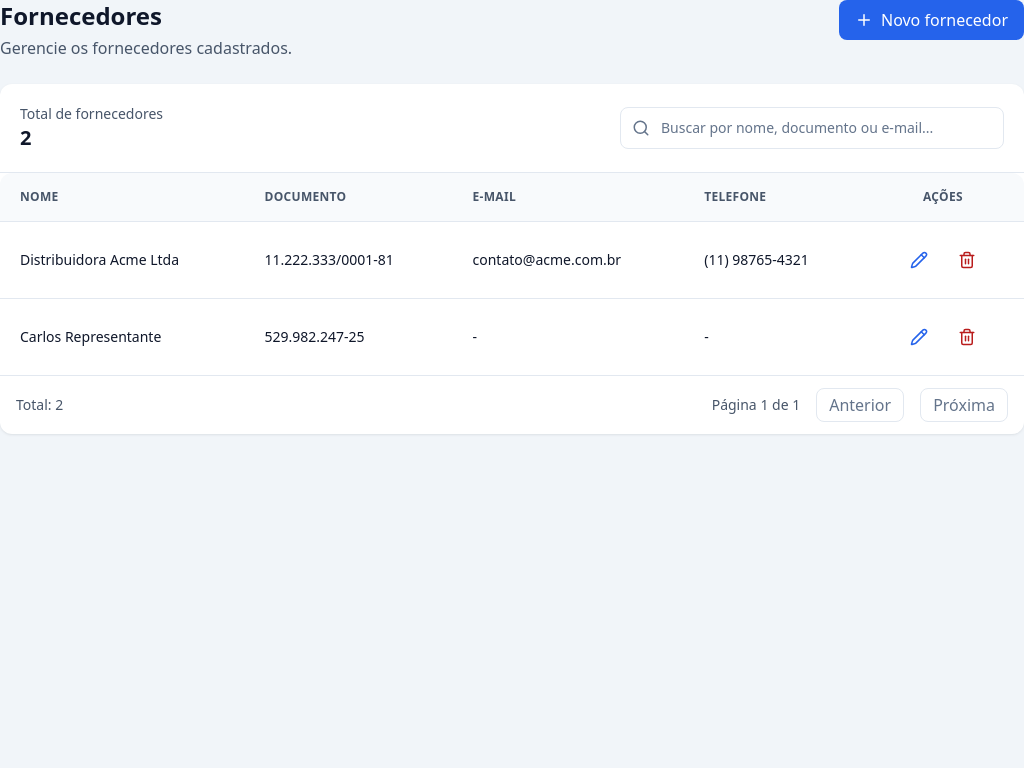
it: SupplierListPage › CNPJ alfanumérico com dígitos verificadores não numéricos é recusado
Check: the text "Distribuidora Acme Ltda" is shown, box [0,222,244,298]
Click the button "Novo fornecedor". click: (932, 20)
box: [839,0,1023,40]
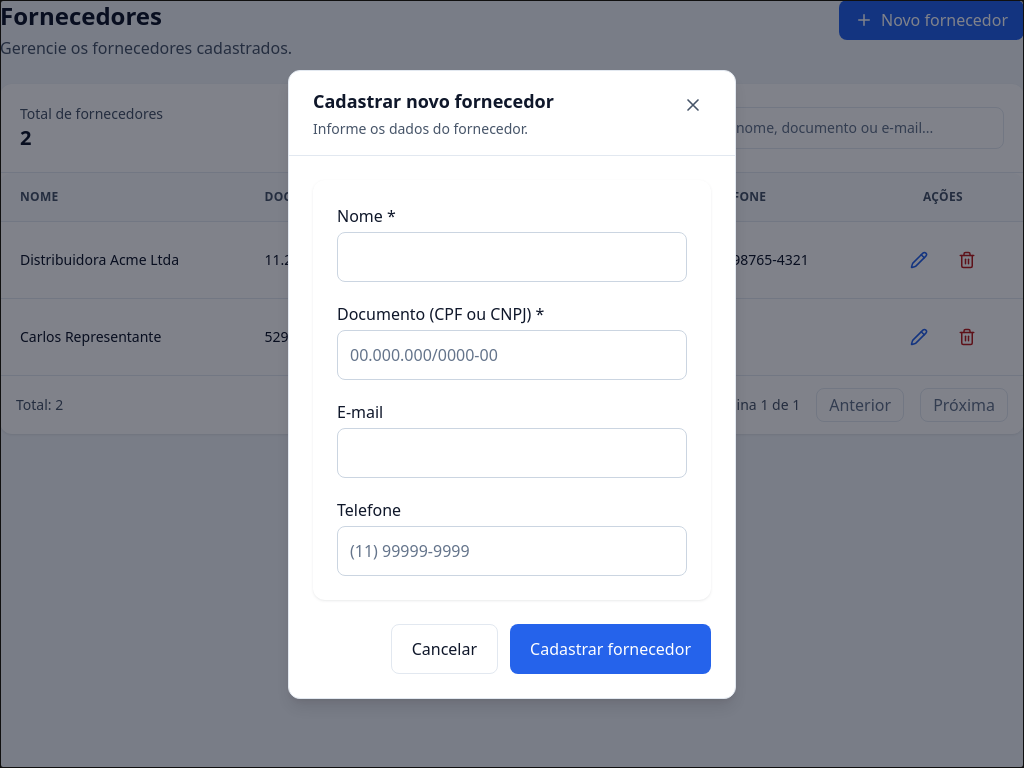
Type "Fornecedor Alfa" into the field labelled "Nome *". click: (512, 256)
box: [337,232,687,282]
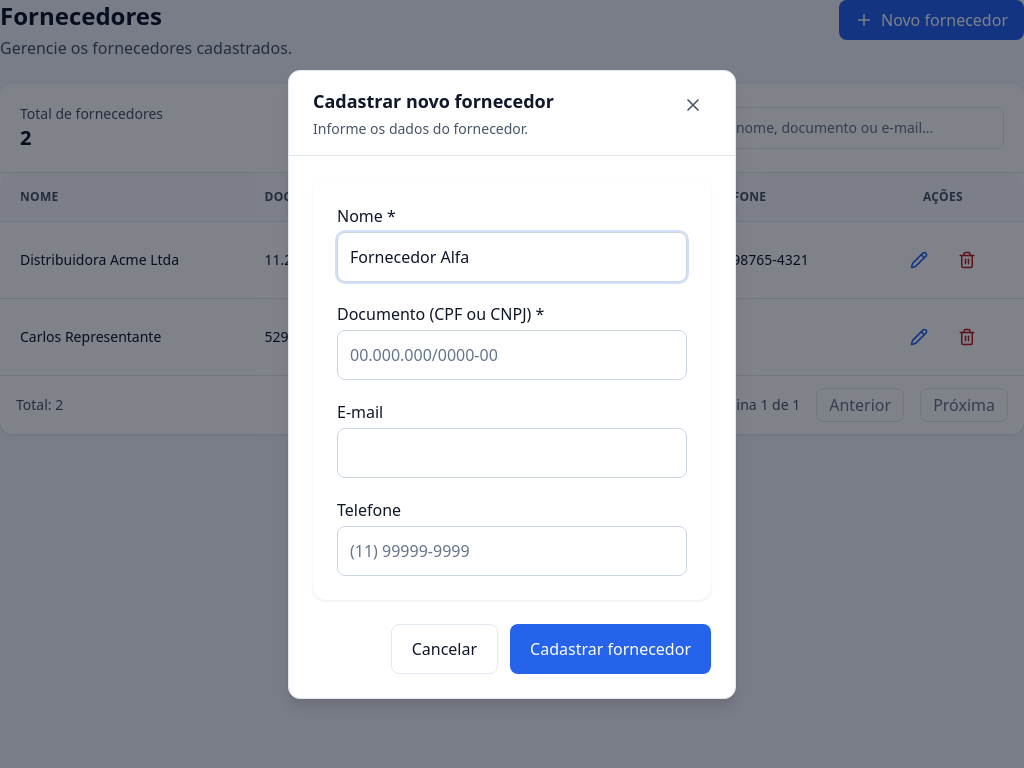
Type "AB12CDE30001XY" into the field labelled "Documento (CPF ou CNPJ) *". click: (512, 354)
box: [337,330,687,380]
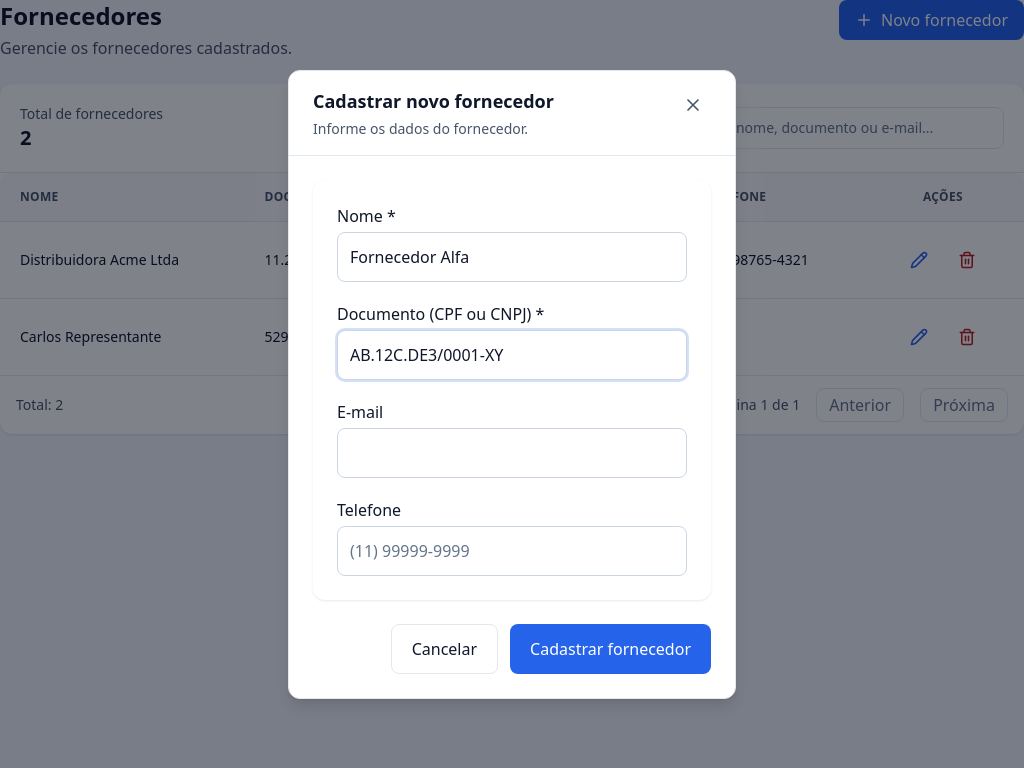
Click the button "Cadastrar fornecedor". click: (611, 648)
box: [510,624,711,674]
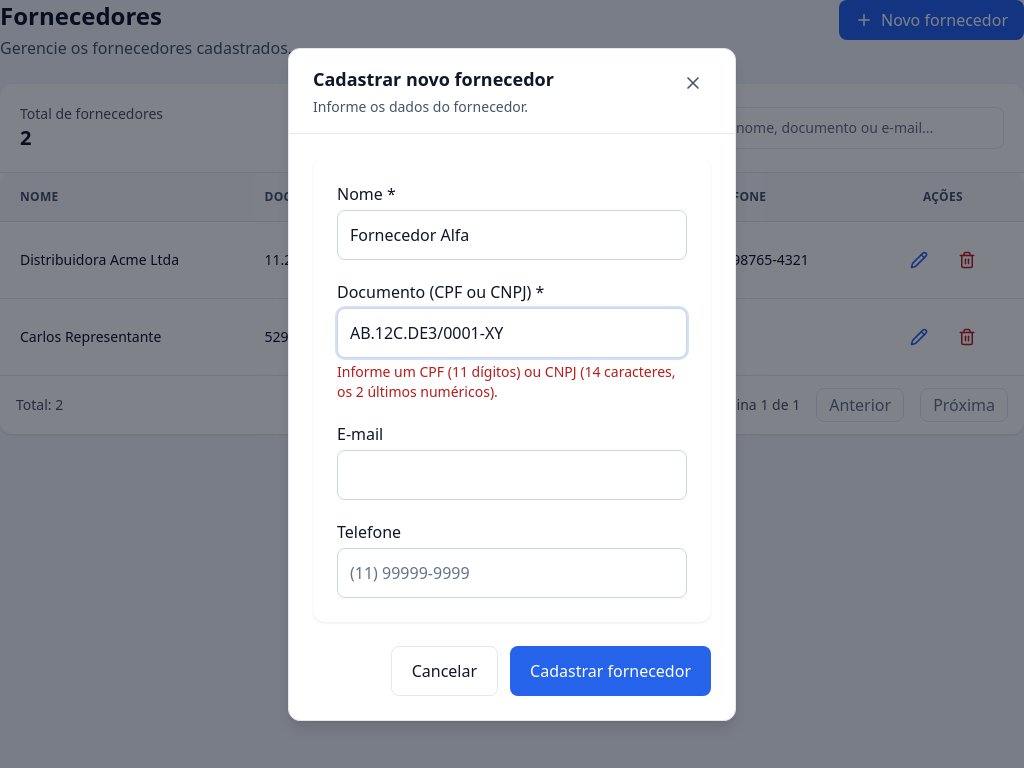
Check: the text "CPF (11 dígitos) ou CNPJ" is shown, box [337,362,676,400]
